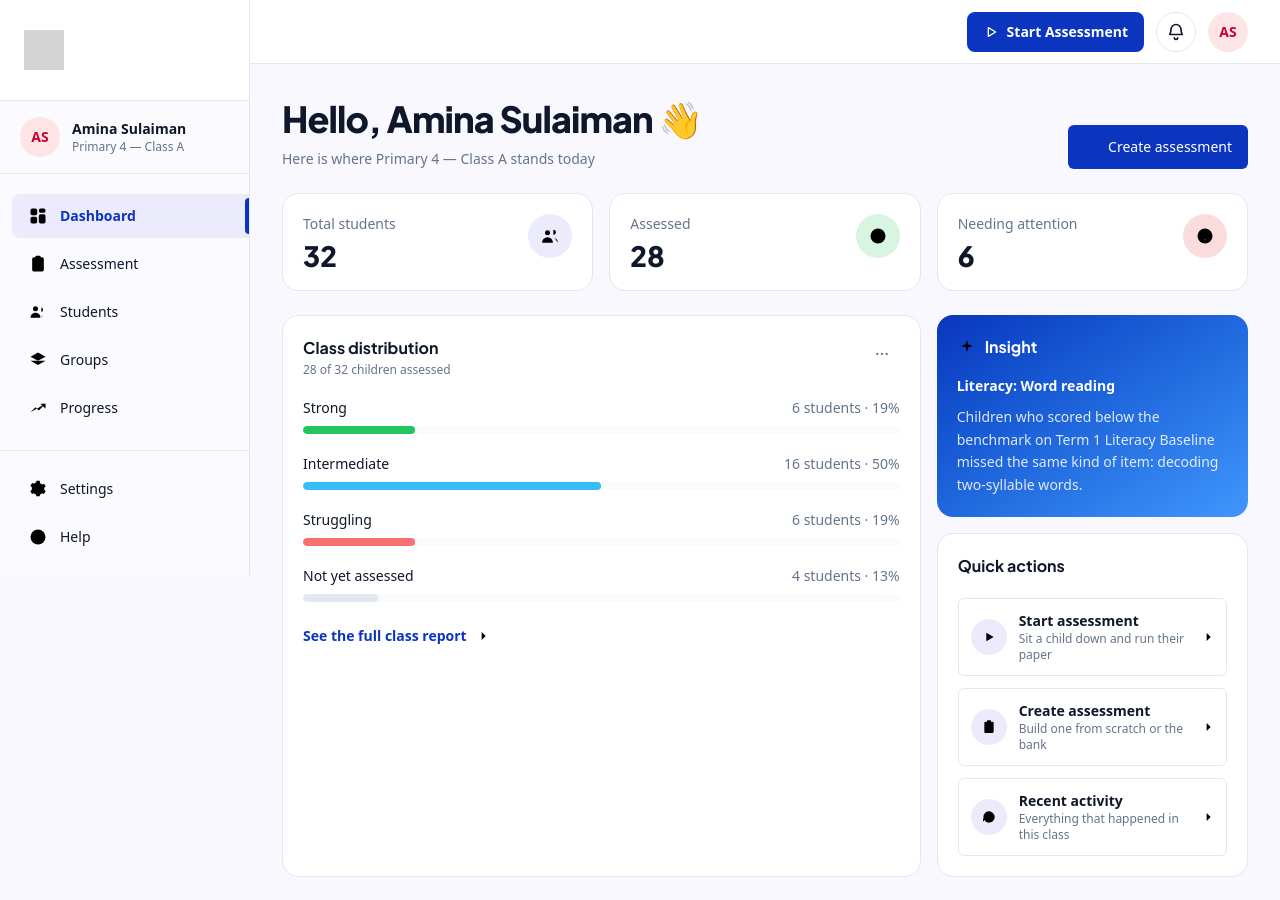
Test: TeacherLayout › navigates to the profile route from the topbar avatar
Click the link with aria-label "Go to your teacher profile". click: click(1228, 32)
box: [1208,12,1248,52]
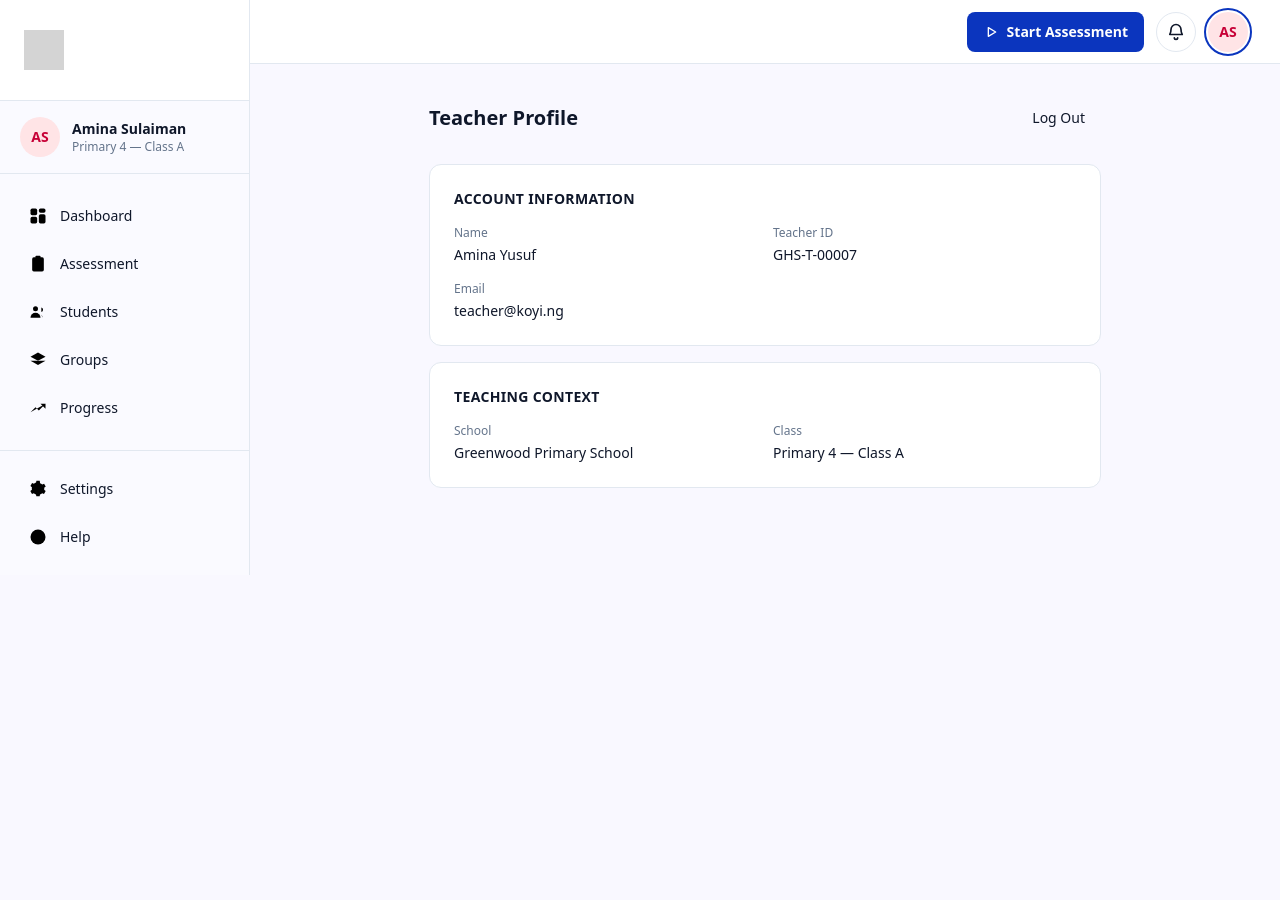
Expected: the heading "Teacher Profile" is shown, [429,104,578,132]
